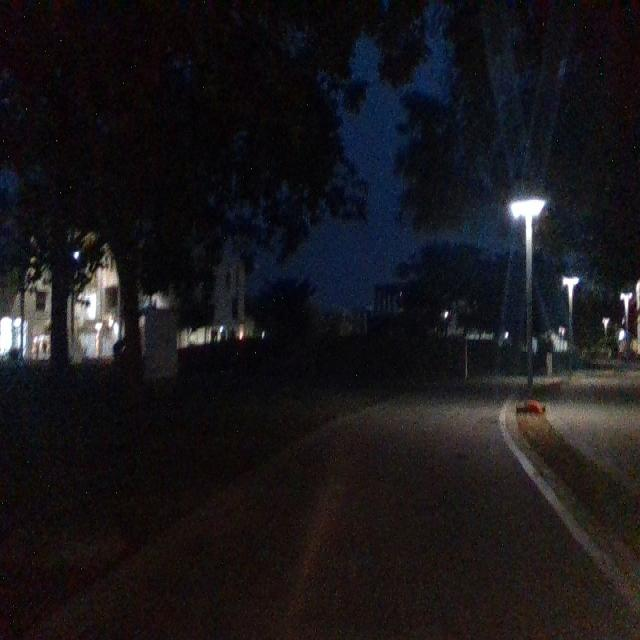lane: (74, 397, 640, 640)
